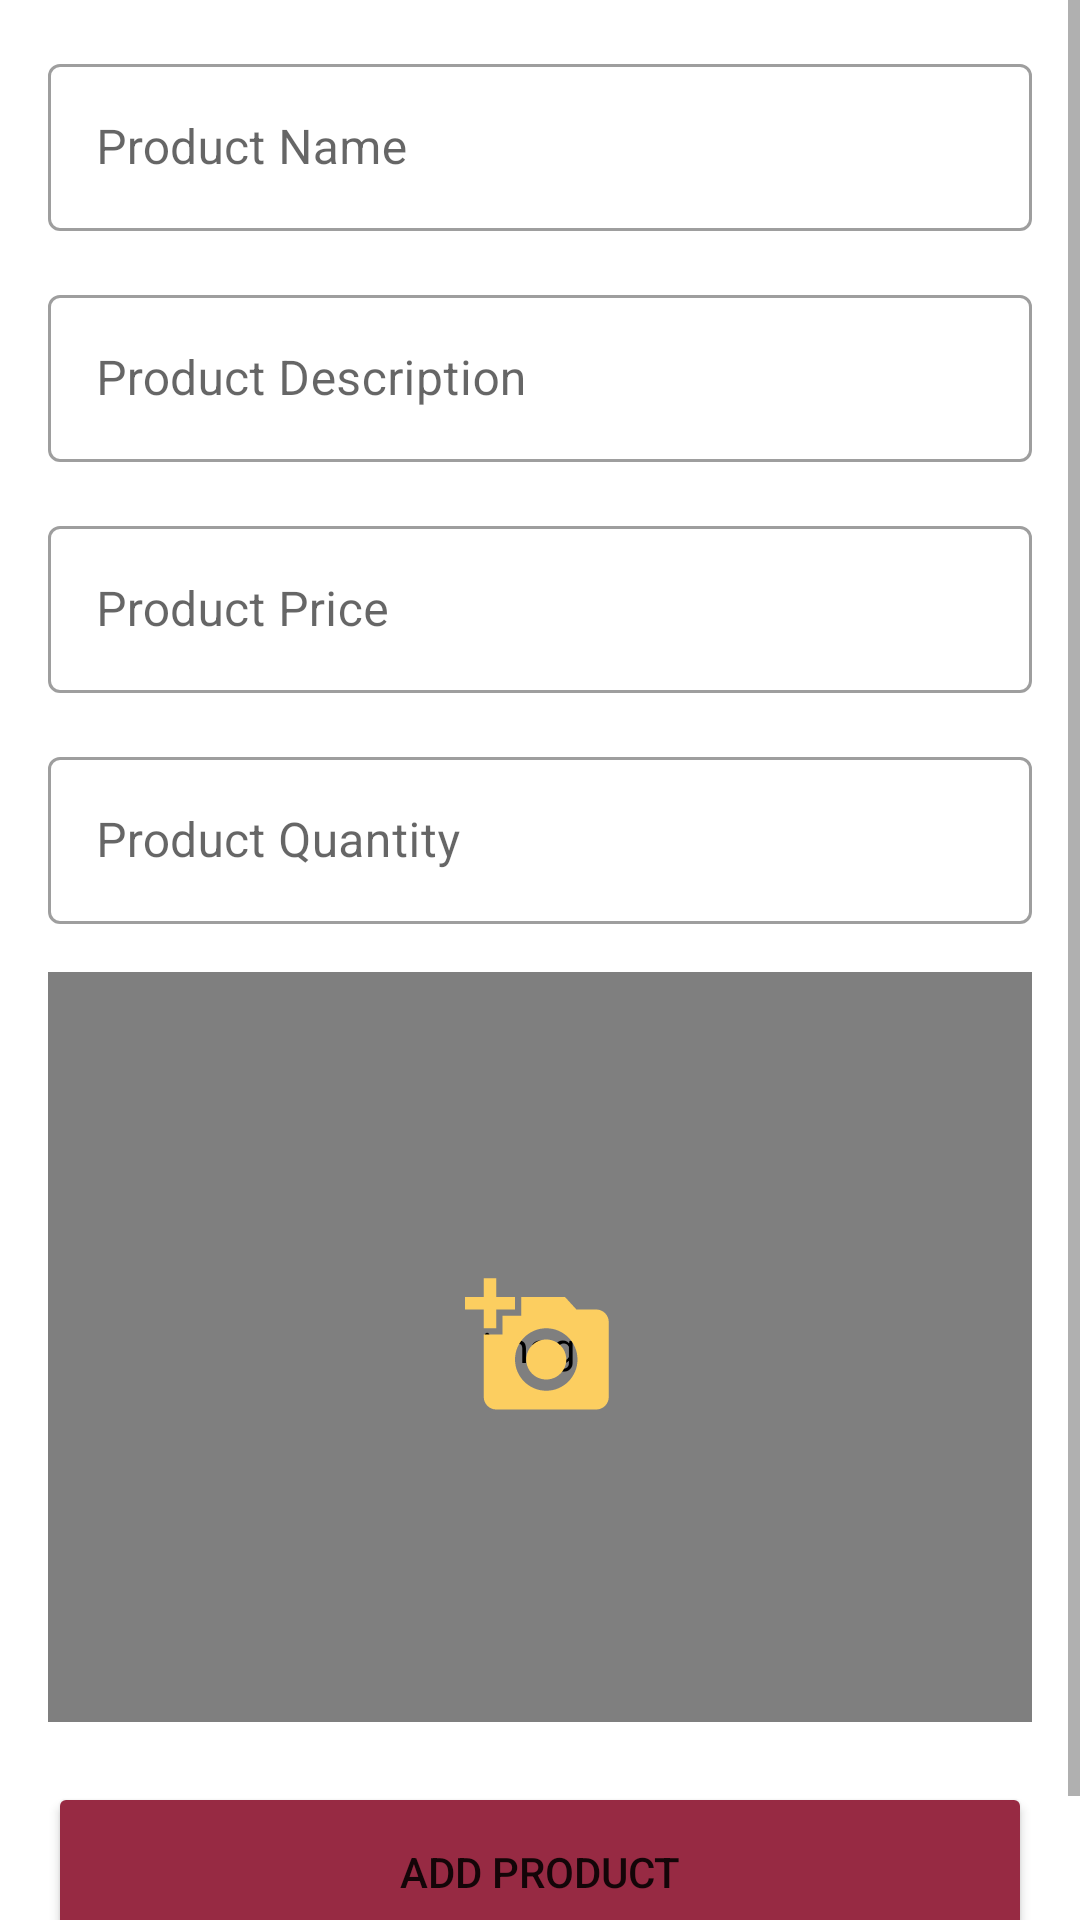

Screen size 1080 × 1920. Icon name, then its center in pixels as point (x, y):
add photo: point (537, 1344)
